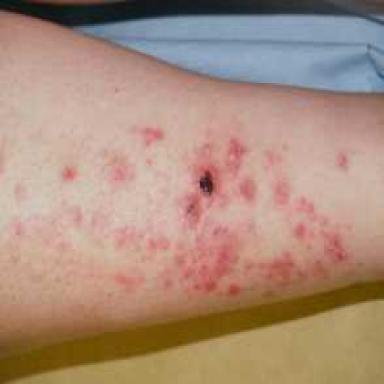Epidermolysis-Bullosa-Pruriginosa: (13, 124, 355, 303)
